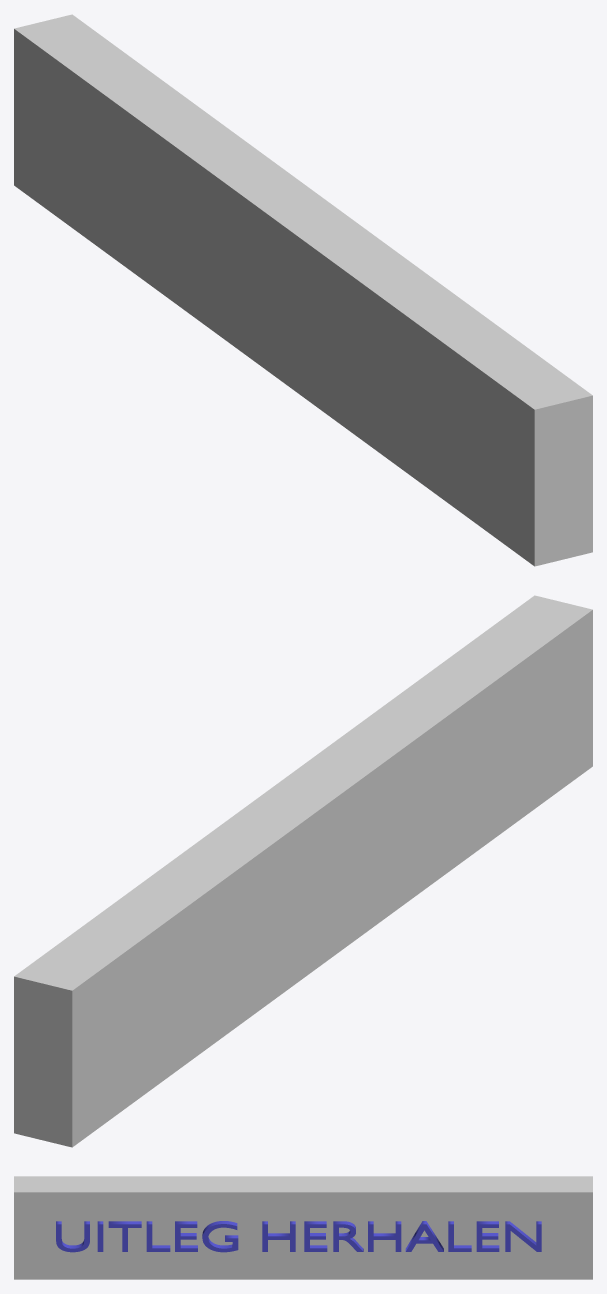
File: Uitleghh.gltf
The picture shows the model from 3 angles, top to bottom: view 1: azimuth 30°, elevation 25°; view 2: azimuth 150°, elevation 25°; view 3: azimuth 270°, elevation 25°; orthographic projection. The views are drawn at different scales.
Parts seen in each view (by area): view 1: Cube.002; view 2: Cube.002; view 3: Cube.002, Text.003.
Part boxes in pixels (bbox=[...]): Cube.002: bbox=[14, 14, 592, 566]; Cube.002: bbox=[14, 595, 592, 1147]; Cube.002: bbox=[14, 1176, 592, 1279]; Text.003: bbox=[56, 1221, 541, 1252].
Bounding box in the file's own units: 0.7698 × 1.65 × 9.92.
